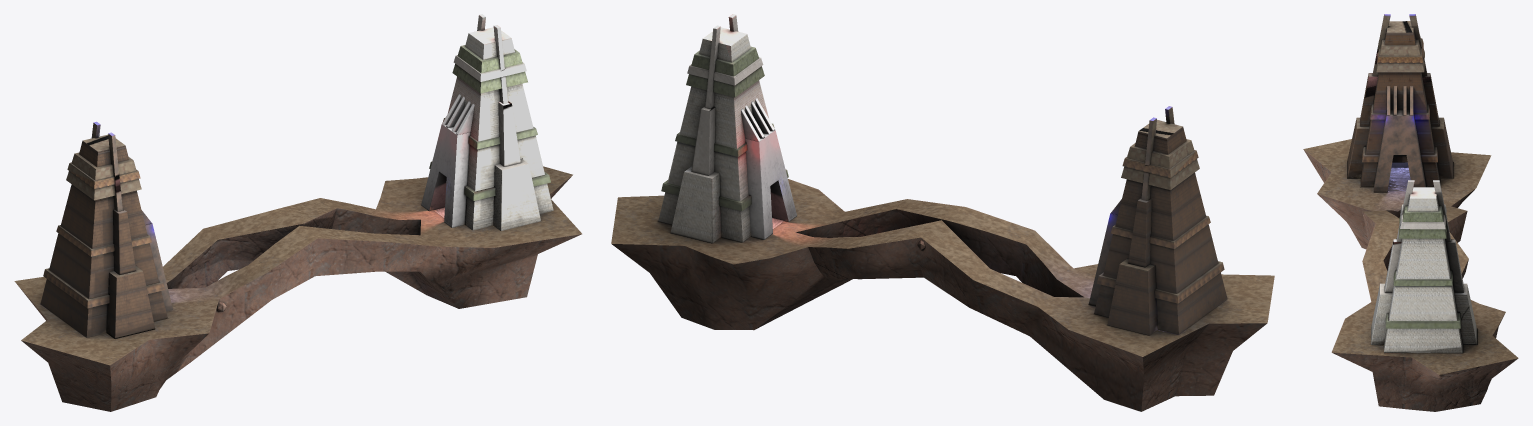
File: FacingWorlds_tex_5.gltf
The picture shows the model from 3 angles, left to right: view 1: azimuth 30°, elevation 25°; view 2: azimuth 150°, elevation 25°; view 3: azimuth 270°, elevation 25°; orthographic projection. The views are drawn at different scales.
Parts seen in each view (by area): view 1: TOWER_WHOLE; view 2: TOWER_WHOLE; view 3: TOWER_WHOLE.
Part boxes in pixels (x1,y1,x2,y2): TOWER_WHOLE: [14, 14, 581, 411]; TOWER_WHOLE: [611, 14, 1274, 411]; TOWER_WHOLE: [1303, 14, 1518, 411].
Size of the model in its own units: 111 by 47.11 by 41.63.
1 material, 1 textured.
